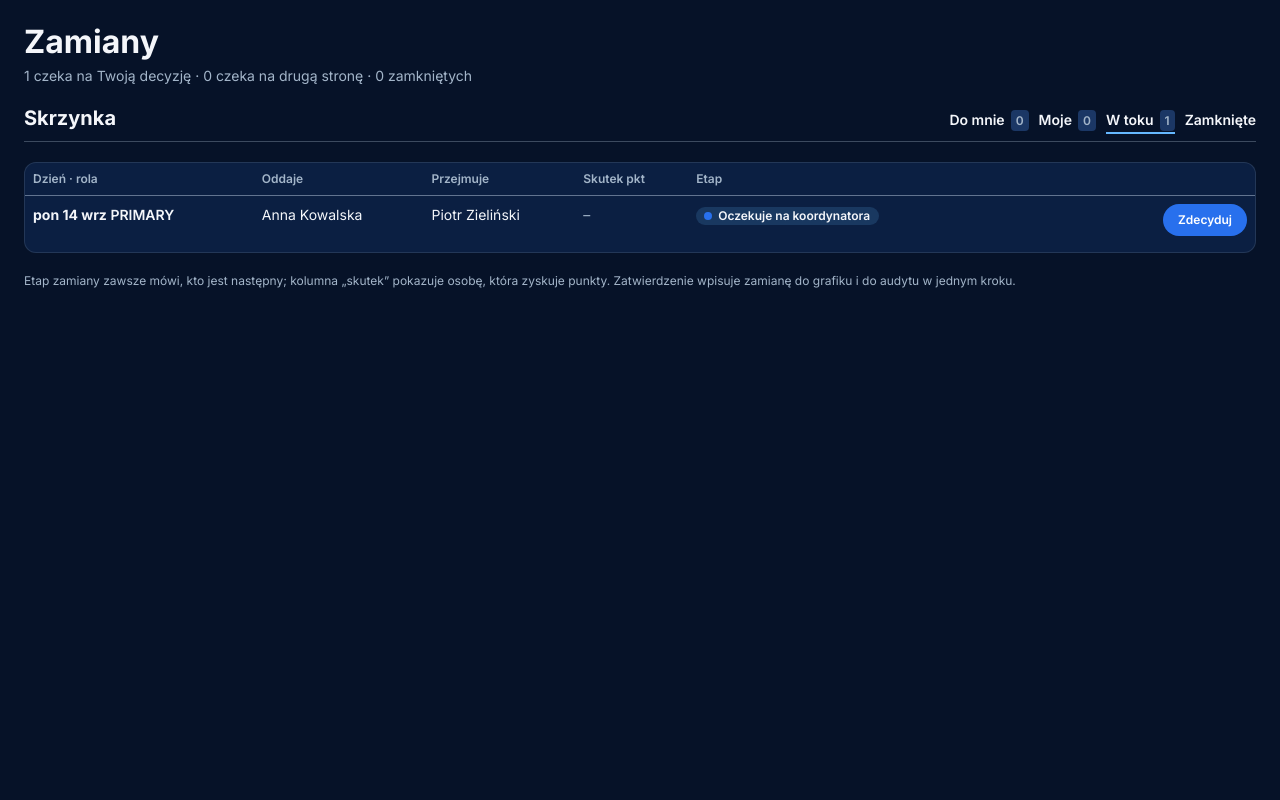
SwapPanel without the coordinator approval › keeps the stage for a request a coordinator already holds
Click the button "Zdecyduj": (1205, 220) [1163, 204, 1247, 236]
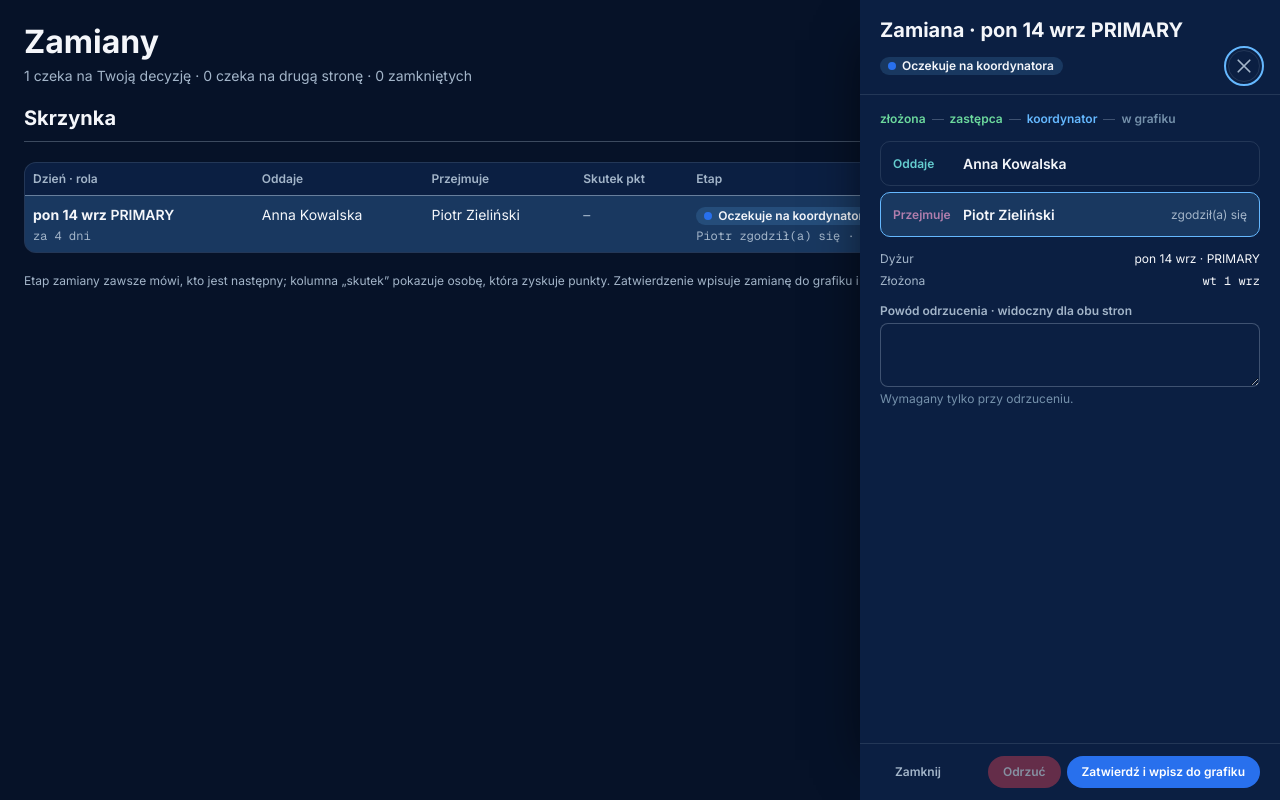
Expected: the button "Zatwierdź i wpisz do grafiku" is enabled, [1066, 756, 1260, 788]
